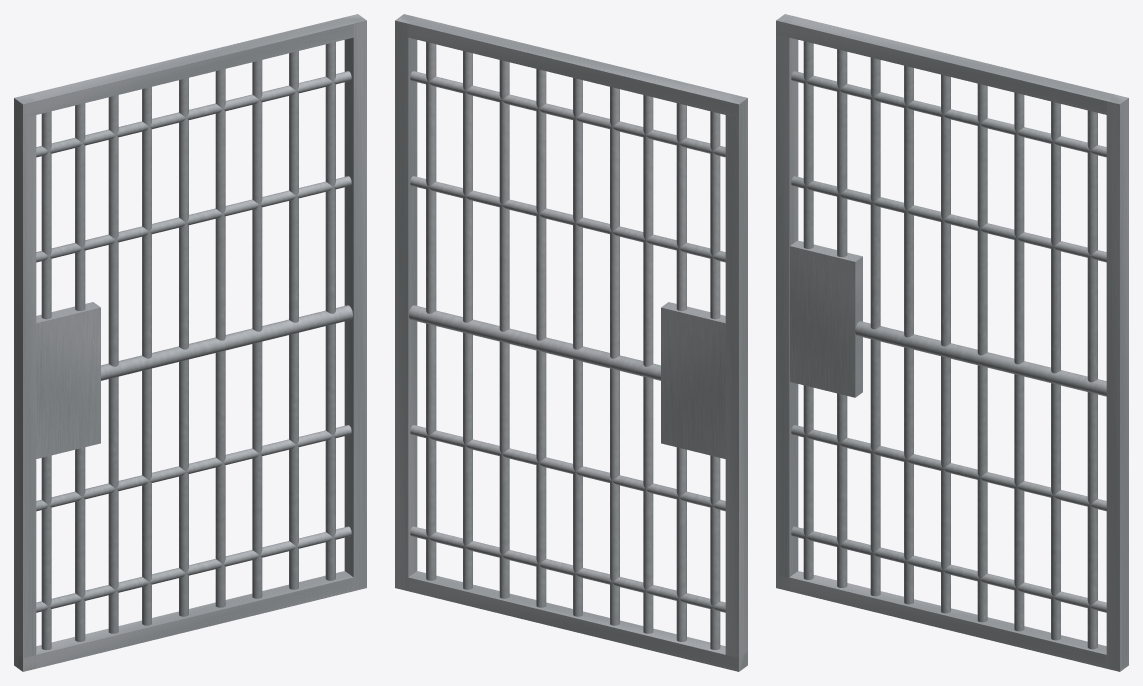
Rendered from Puerta.FBX.
3 views of the same model, side by side, from view 1: azimuth 30°, elevation 25°; view 2: azimuth 150°, elevation 25°; view 3: azimuth 330°, elevation 25° (orthographic).
Visible parts, largest first — view 1: Box004, Box003, Box005, Box002, Box001, Cylinder003, Cylinder004, Cylinder007, Cylinder001, Cylinder005, Cylinder006, Cylinder002 (+7 smaller); view 2: Box004, Box003, Box005, Box002, Box001, Cylinder003, Cylinder004, Cylinder007, Cylinder001, Cylinder006, Cylinder005, Cylinder002 (+7 smaller); view 3: Box003, Box004, Box005, Box002, Box001, Cylinder004, Cylinder007, Cylinder001, Cylinder003, Cylinder002, Cylinder006, Cylinder005 (+7 smaller).
Boxes of the visible parts, bbox=[...] form: Box004: bbox=[14, 95, 36, 671]; Box003: bbox=[344, 14, 366, 590]; Box005: bbox=[36, 302, 100, 458]; Box002: bbox=[14, 17, 353, 117]; Box001: bbox=[14, 571, 353, 671]; Cylinder003: bbox=[252, 60, 262, 598]; Cylinder004: bbox=[215, 69, 225, 607]; Cylinder007: bbox=[108, 95, 118, 633]; Cylinder001: bbox=[325, 42, 335, 580]; Cylinder005: bbox=[179, 78, 188, 616]; Cylinder006: bbox=[142, 87, 151, 625]; Cylinder002: bbox=[289, 51, 298, 589]; Box004: bbox=[725, 95, 747, 657]; Box003: bbox=[395, 14, 417, 590]; Box005: bbox=[661, 302, 725, 458]; Box002: bbox=[408, 17, 747, 117]; Box001: bbox=[408, 571, 747, 671]; Cylinder003: bbox=[499, 60, 509, 598]; Cylinder004: bbox=[536, 69, 546, 607]; Cylinder007: bbox=[643, 95, 653, 633]; Cylinder001: bbox=[426, 42, 436, 580]; Cylinder006: bbox=[610, 87, 619, 625]; Cylinder005: bbox=[573, 78, 582, 616]; Cylinder002: bbox=[463, 51, 472, 589]; Box003: bbox=[1106, 94, 1128, 671]; Box004: bbox=[776, 15, 798, 590]; Box005: bbox=[790, 240, 862, 397]; Box002: bbox=[776, 14, 1114, 114]; Box001: bbox=[776, 571, 1106, 668]; Cylinder004: bbox=[977, 83, 987, 622]; Cylinder007: bbox=[870, 57, 880, 596]; Cylinder001: bbox=[1087, 110, 1097, 649]; Cylinder003: bbox=[1014, 92, 1024, 631]; Cylinder002: bbox=[1051, 101, 1060, 640]; Cylinder006: bbox=[904, 65, 913, 604]; Cylinder005: bbox=[941, 74, 950, 613].
Bounding box in the file's own units: 78 × 123 × 3.5.
Materials: 19 (19 with a texture image).
